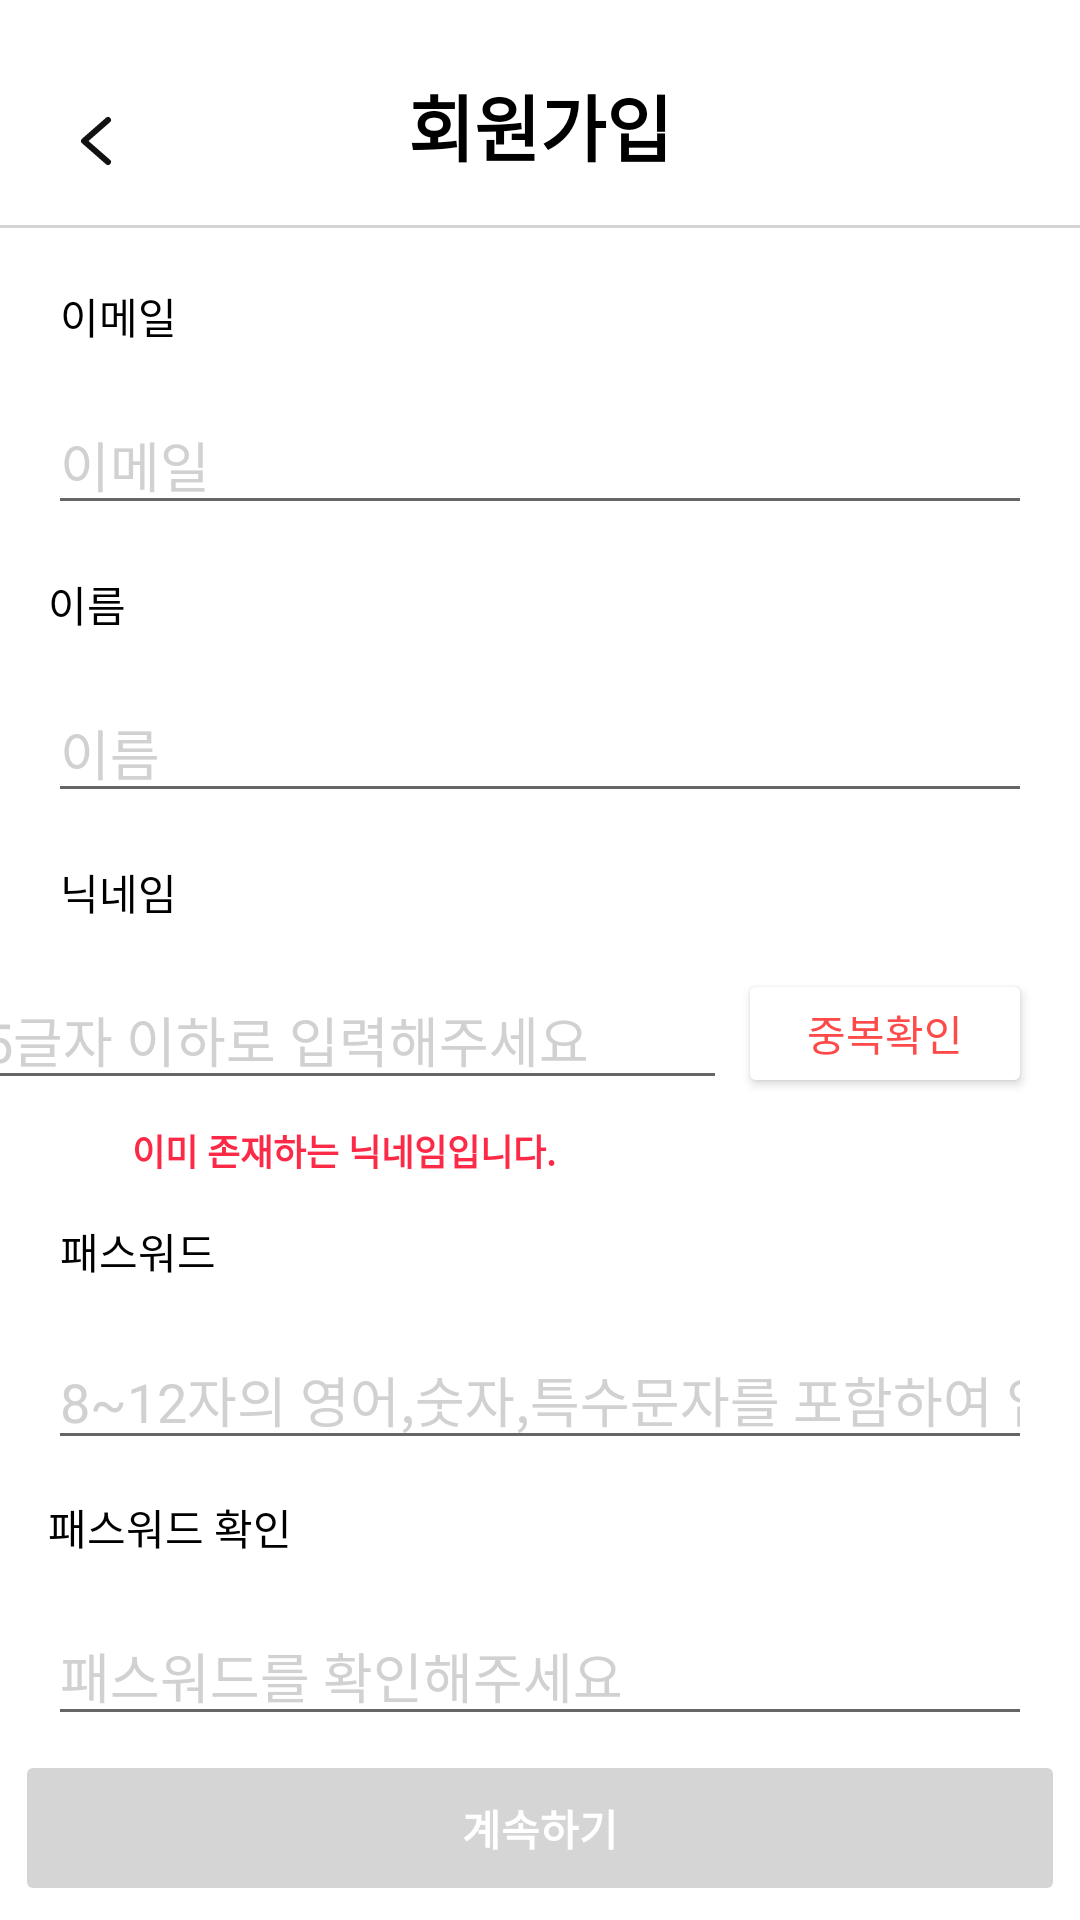

Icons on this 1080*1920 Android screen, each with the point to tap as (x=x, y=y):
back: (x=96, y=141)
